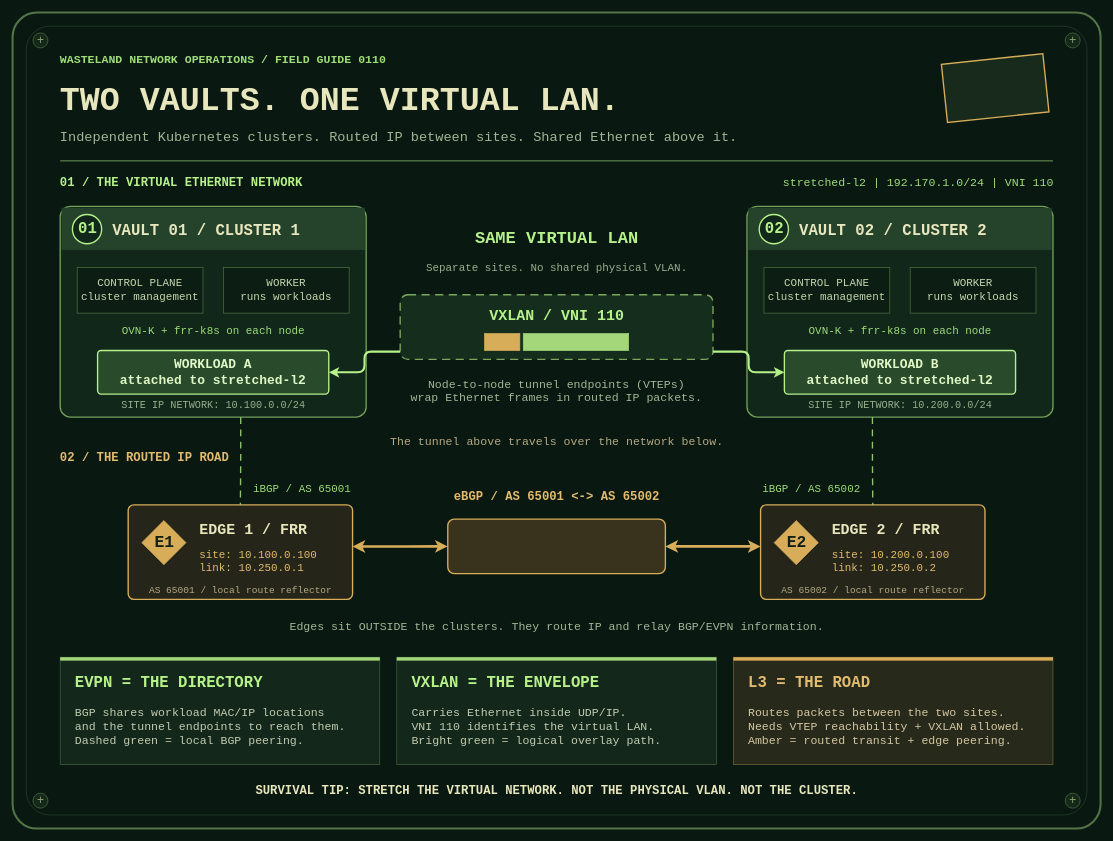
This 1113x841 diagram has some shape labels left out. The centre of each missing label's shape, as x and y in pixels:
"ETHERNET" goes at pixel 576 342.
"IP" goes at pixel 502 342.
"L3 BELOW L2 ABOVE" goes at pixel 994 88.
"TRANSIT NETWORK 10.250.0.0/24" goes at pixel 556 546.
